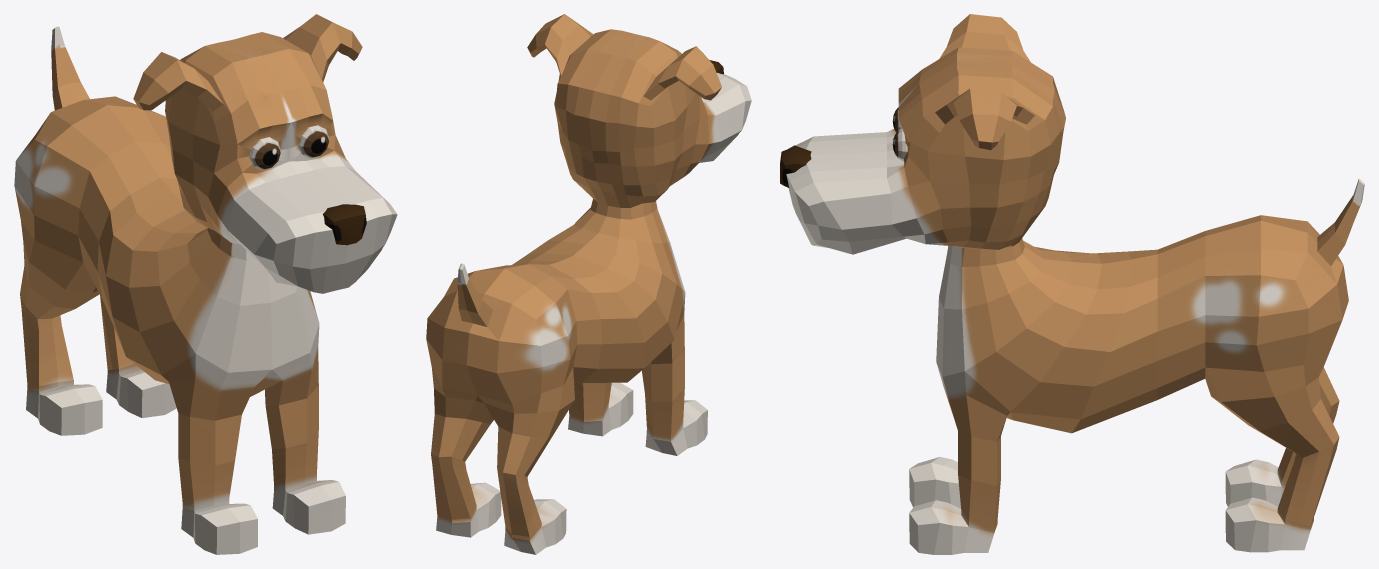
File: dog003.fbx
The picture shows the model from 3 angles, left to right: view 1: azimuth 30°, elevation 25°; view 2: azimuth 150°, elevation 25°; view 3: azimuth 270°, elevation 25°; orthographic projection. The views are drawn at different scales.
Visible parts, largest first — view 1: polySurface6; view 2: polySurface6; view 3: polySurface6.
Boxes of the visible parts, x1,y1,x2,y2 form: polySurface6: (14, 14, 397, 554); polySurface6: (426, 14, 751, 554); polySurface6: (780, 14, 1364, 554).
Bounding box in the file's own units: 5.49 × 11.21 × 12.6.
Materials: 1 (1 with a texture image).
